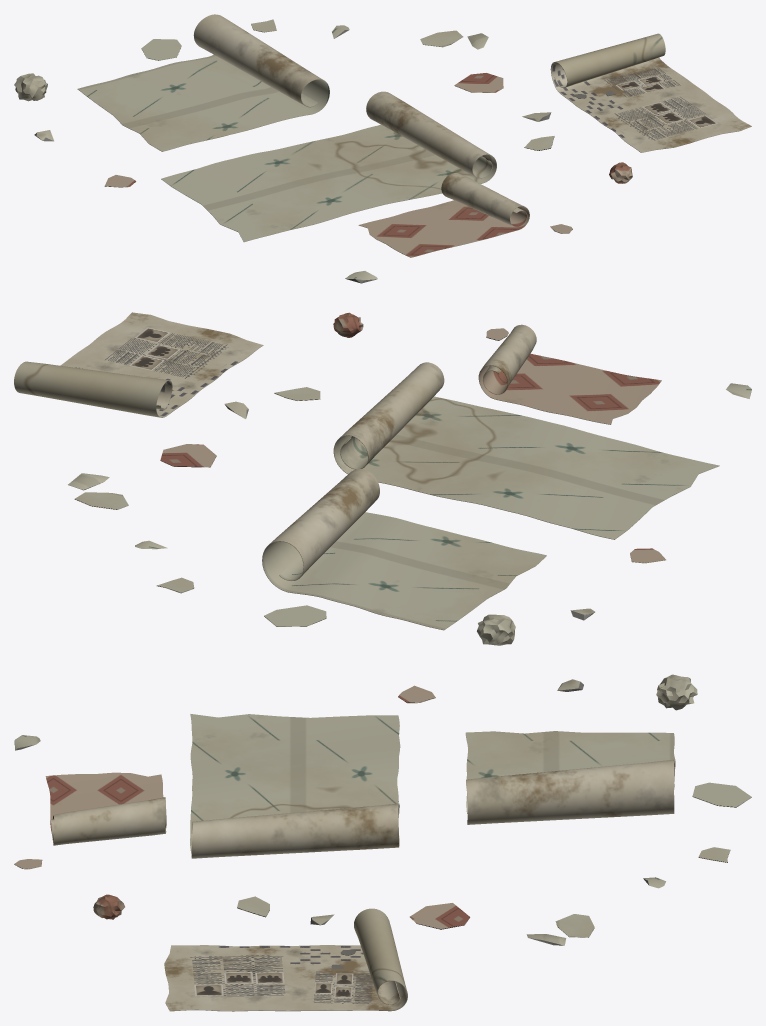
Rendered from SM_Wallpaper_Strips.fbx.
3 renders of one model, top to bottom at view 1: azimuth 30°, elevation 25°; view 2: azimuth 150°, elevation 25°; view 3: azimuth 270°, elevation 25°, orthographic. The views are drawn at different scales.
Parts seen in each view (by area): view 1: SM_Wallpaper_Strips; view 2: SM_Wallpaper_Strips; view 3: SM_Wallpaper_Strips.
Boxes of the visible parts, x1,y1,x2,y2 form: SM_Wallpaper_Strips: (14,14,751,283); SM_Wallpaper_Strips: (14,312,751,645); SM_Wallpaper_Strips: (14,674,751,1011).
Size of the model in its own units: 1.91 by 0.1383 by 1.82.
1 material, 1 textured.
